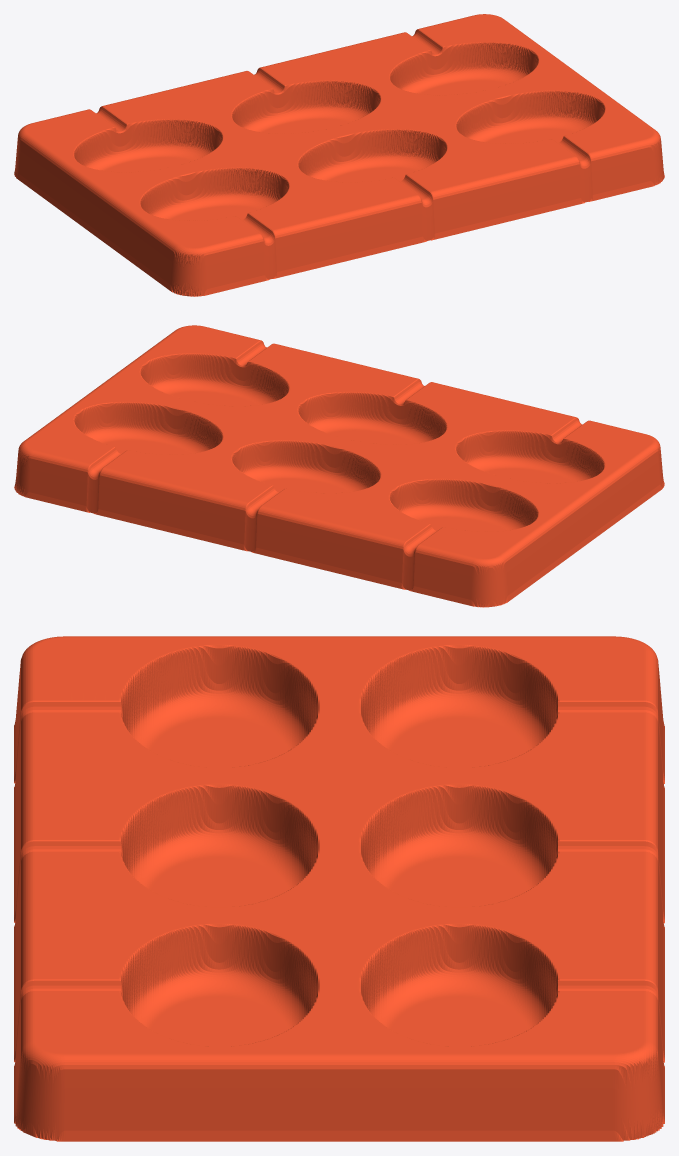
File: mold.glb
3 renders of one model, top to bottom at view 1: azimuth 30°, elevation 25°; view 2: azimuth 150°, elevation 25°; view 3: azimuth 270°, elevation 25°, orthographic. The views are drawn at different scales.
Visible parts, largest first — view 1: geometry_0; view 2: geometry_0; view 3: geometry_0.
Boxes of the visible parts, x1,y1,x2,y2 form: geometry_0: (14,14,664,296); geometry_0: (14,325,664,607); geometry_0: (14,636,664,1141).
Size of the model in its own units: 0.1824 by 0.0155 by 0.1158.
